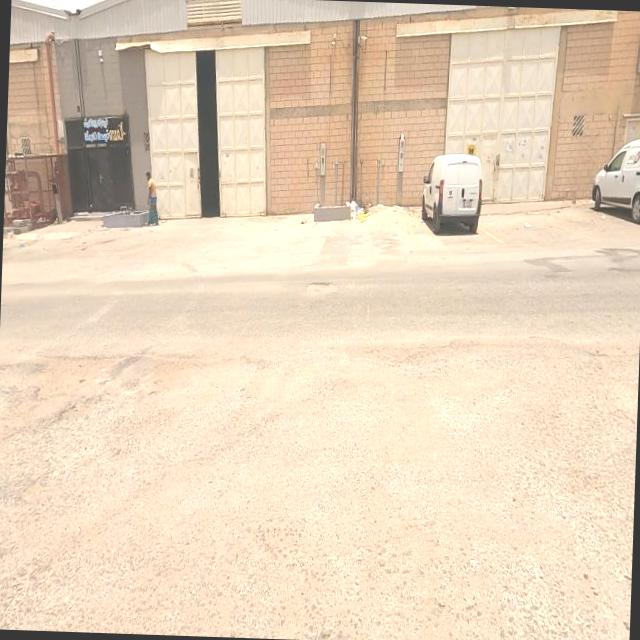debris: (328, 171, 396, 249)
